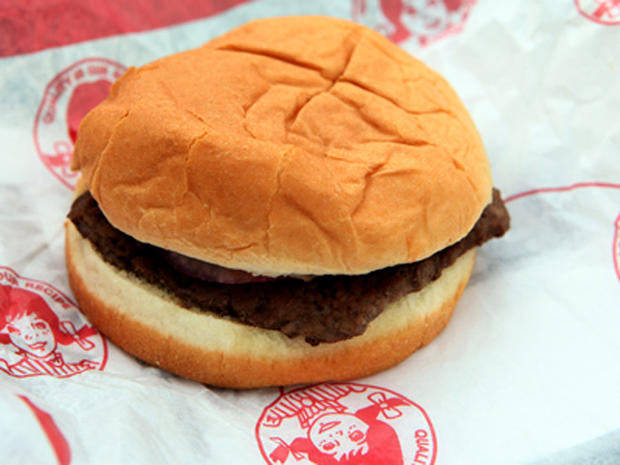hamburger_buns: (69, 21, 502, 388)
